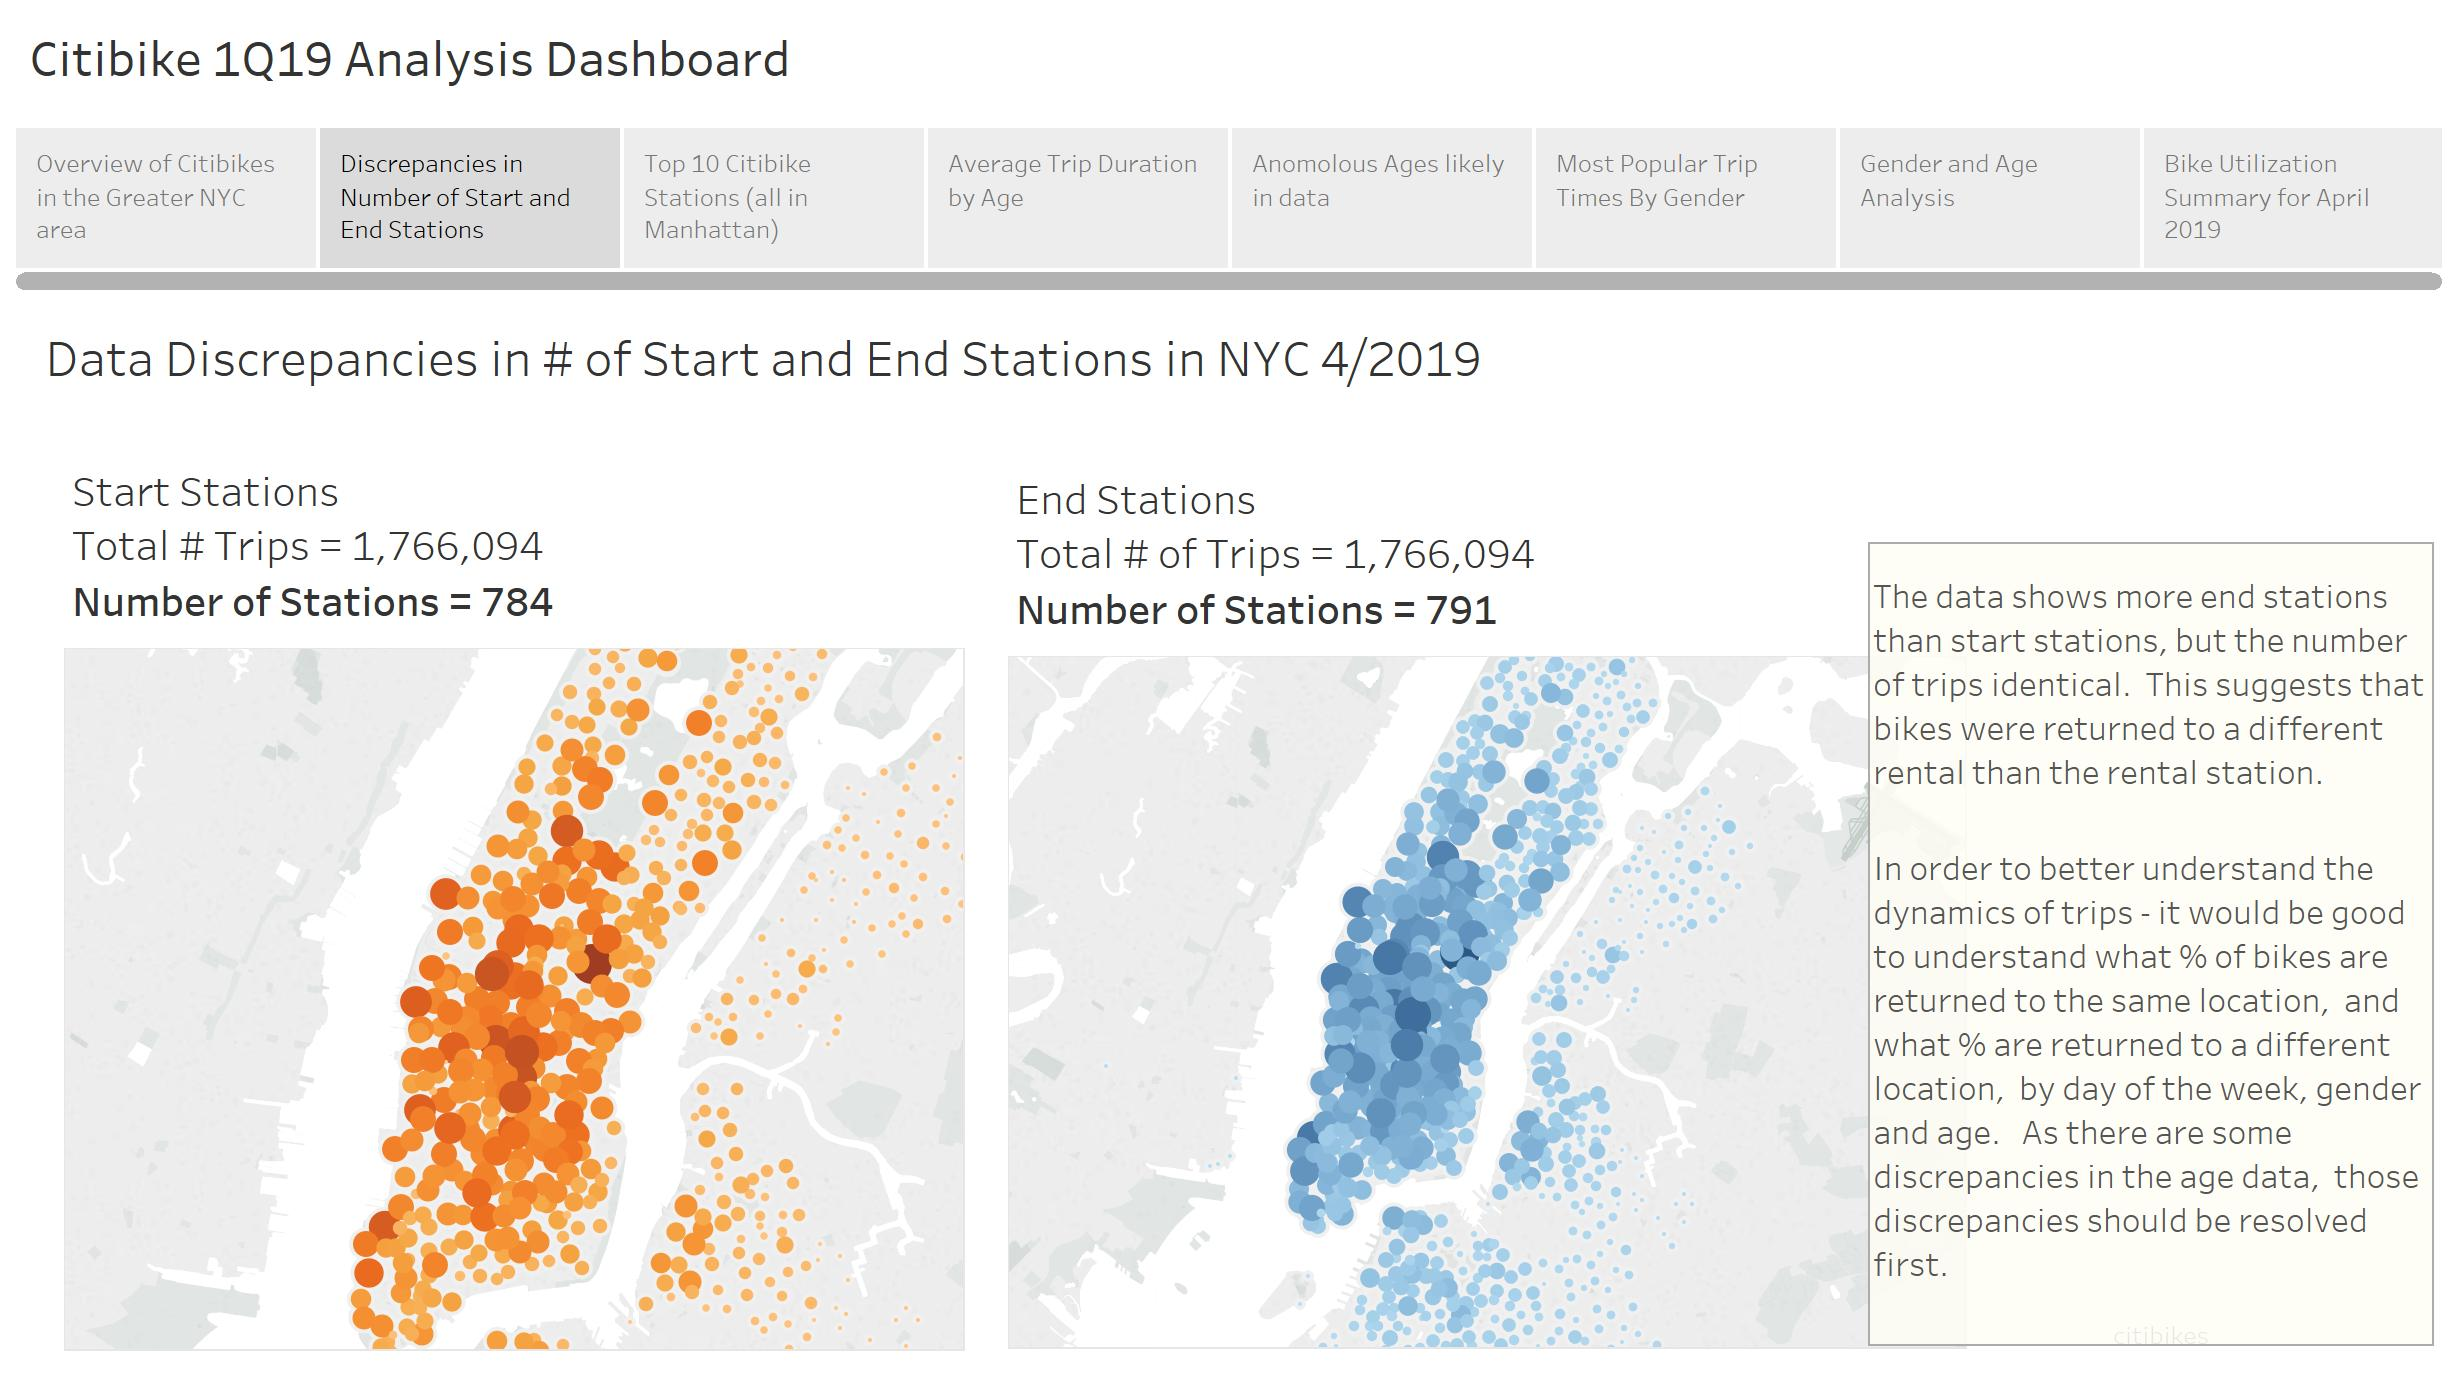

This screenshot's page, from the dashboard's own definition file:
{"tool":"tableau","page":{"name":"Total Number of Start and End Stations to date","canvas":[1000,1000],"units":"permille","ordinal":5},"visuals":[{"type":"title","box":[16.3,18.7,821.8,47.6]},{"type":"worksheet","title":"End Stations","mark":"Automatic","rows":["end station latitude"],"cols":["end station longitude"],"box":[516,106.3,337.3,834.8]},{"type":"worksheet","title":"Start Stations","mark":"Automatic","rows":["start station latitude"],"cols":["start station longitude"],"box":[15.2,107.8,332.5,837.6]},{"type":"filter","title":"Start Stations","param":"[federated.0grz1eo1pkrk0v1ddi04d011alyu].[none:start station name:nk]","box":[350,132.5,160,55]},{"type":"filter","title":"End Stations","param":"[federated.0grz1eo1pkrk0v1ddi04d011alyu].[none:end station name:nk]","box":[351,206.2,160,55]},{"type":"legend","title":"Start Stations","param":"[federated.0grz1eo1pkrk0v1ddi04d011alyu].[sum:Number of Records:qk]","box":[358,297.4,140,94.8]},{"type":"legend","title":"End Stations","param":"[federated.0grz1eo1pkrk0v1ddi04d011alyu].[sum:Number of Records:qk]","box":[360.5,387.9,140,94.8]},{"type":"text","box":[862,942.5,113,37.5]}]}

Visuals, with their boxes on the dashboard's canvas, which has no fixed pixel size, in thousandths of its width and height (x1, y1, x2, y2). These are canvas units, not pixel positions in the 2458x1392 screenshot, which may show the page scaled, cropped or inside an application window:
title: left=16, top=19, right=838, bottom=66
"End Stations" worksheet: left=516, top=106, right=853, bottom=941
"Start Stations" worksheet: left=15, top=108, right=348, bottom=945
"Start Stations" filter: left=350, top=132, right=510, bottom=188
"End Stations" filter: left=351, top=206, right=511, bottom=261
"Start Stations" legend: left=358, top=297, right=498, bottom=392
"End Stations" legend: left=360, top=388, right=500, bottom=483
text: left=862, top=942, right=975, bottom=980
